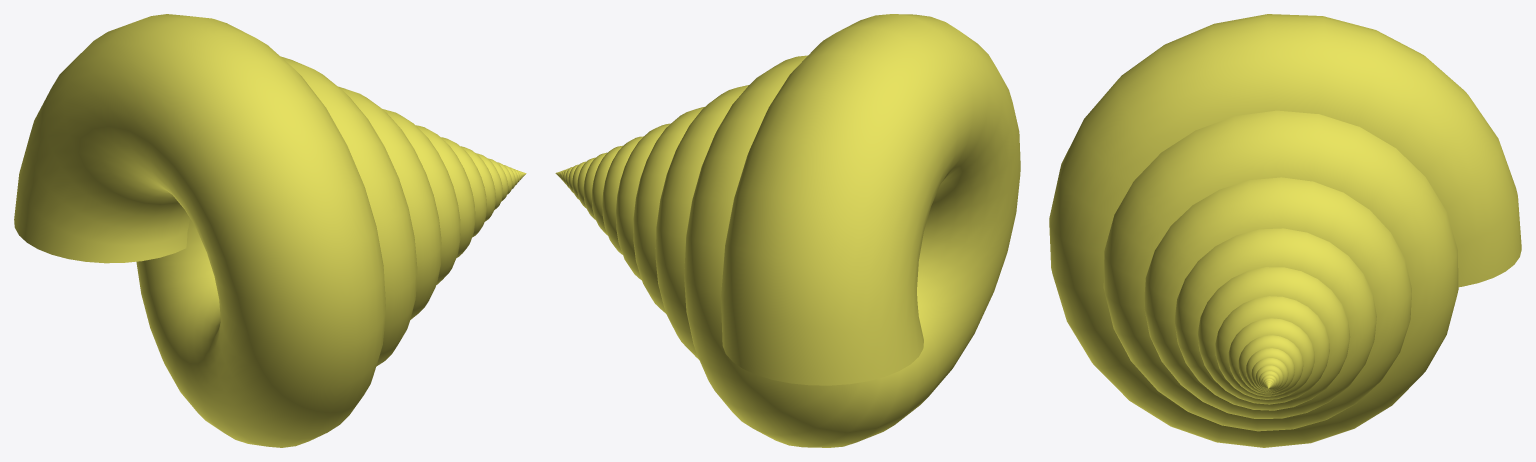
The picture shows the model from 3 angles, left to right: view 1: azimuth 30°, elevation 25°; view 2: azimuth 150°, elevation 25°; view 3: azimuth 270°, elevation 25°; orthographic projection. The views are drawn at different scales.
Parts seen in each view (by area): view 1: t2; view 2: t2; view 3: t2.
Boxes of the visible parts, x1,y1,x2,y2 form: t2: [14, 14, 526, 447]; t2: [555, 14, 1020, 447]; t2: [1049, 14, 1521, 447].
Bounding box in the file's own units: 500 × 455 × 488.
